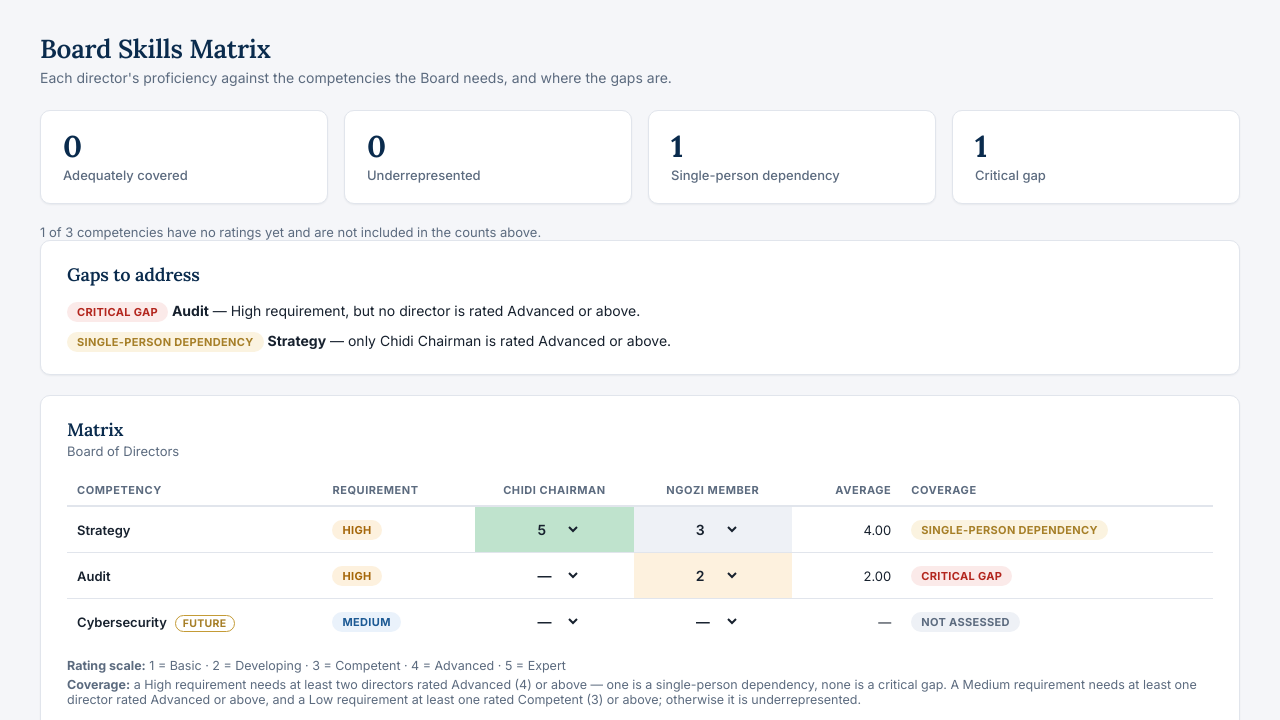
Test: SkillsMatrixPage › saves a rating change and shows the recalculated matrix
Select "4" in the dropdown named "Strategy rating for Ngozi Member" at (713, 530), box [685,515,741,544]
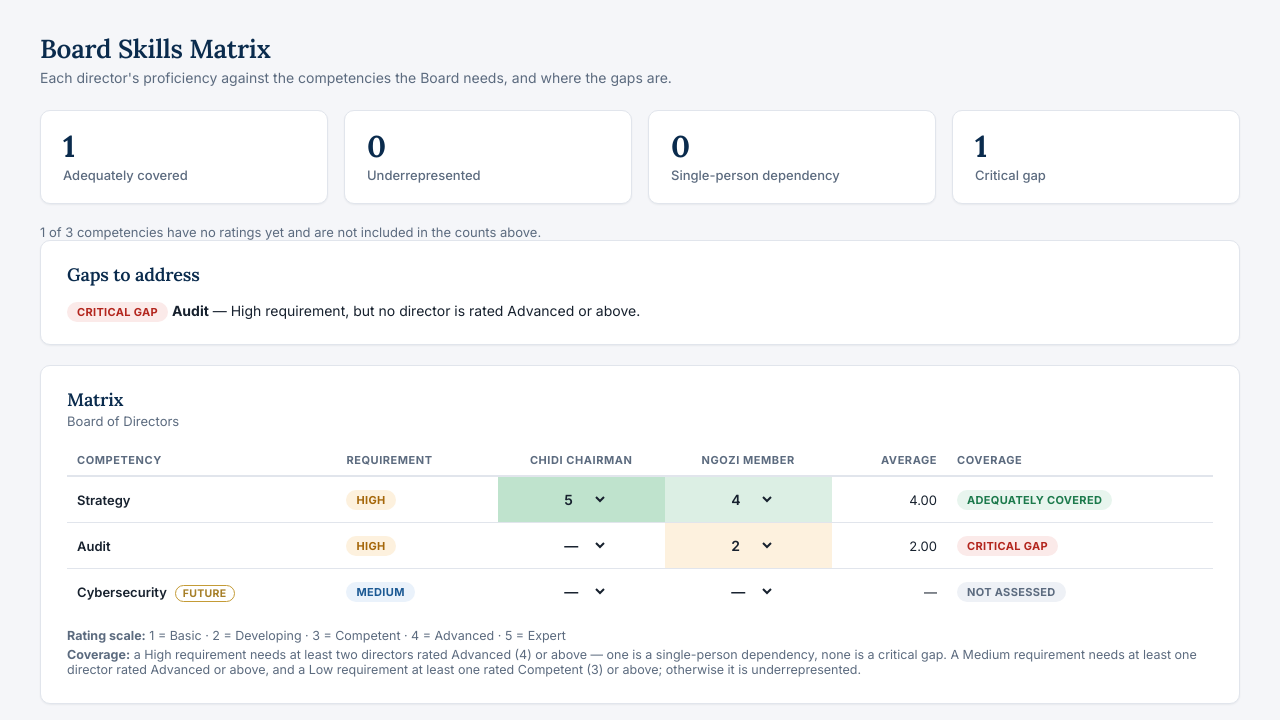
Expected: the list item "only Chidi Chairman" is gone
